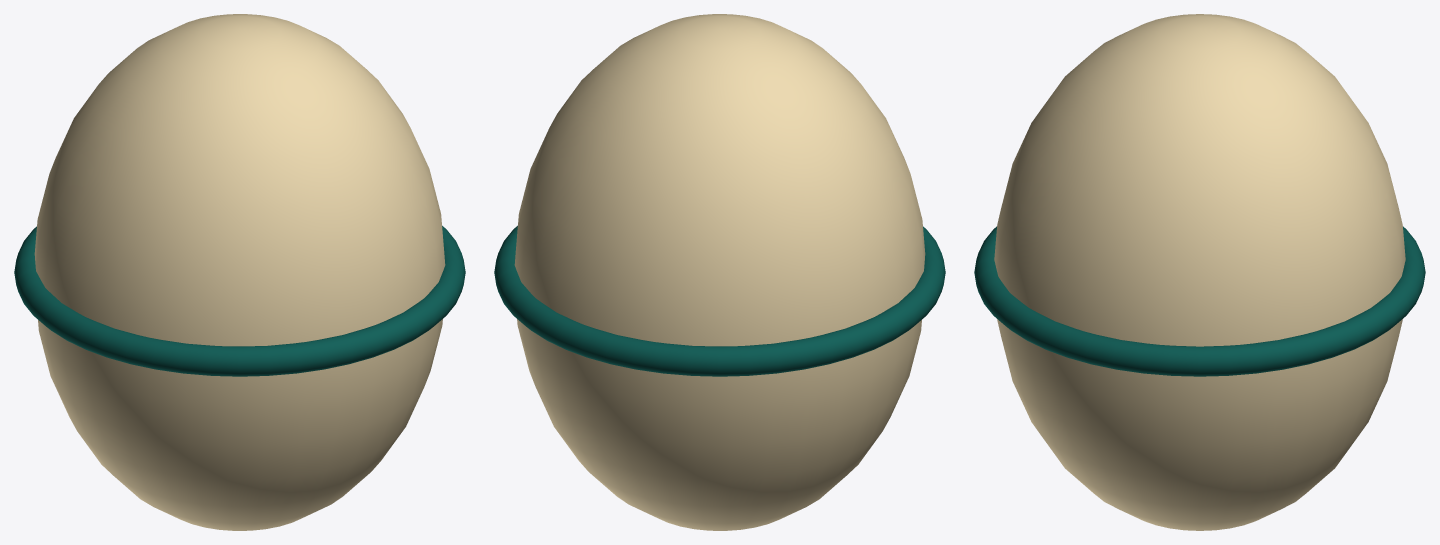
The model's file is digitama_v01.glb.
3 views of the same model, side by side, from view 1: azimuth 30°, elevation 25°; view 2: azimuth 150°, elevation 25°; view 3: azimuth 270°, elevation 25° (orthographic).
Visible parts, largest first — view 1: Digitama_Cascara, Digitama_Banda; view 2: Digitama_Cascara, Digitama_Banda; view 3: Digitama_Cascara, Digitama_Banda.
Boxes of the visible parts, box(x1,y1,x2,y2) form: Digitama_Cascara: box(34, 14, 445, 530); Digitama_Banda: box(14, 225, 465, 376); Digitama_Cascara: box(514, 14, 925, 530); Digitama_Banda: box(494, 225, 945, 376); Digitama_Cascara: box(994, 14, 1405, 530); Digitama_Banda: box(974, 226, 1425, 376).
Bounding box in the file's own units: 0.764 × 0.91 × 0.764.
